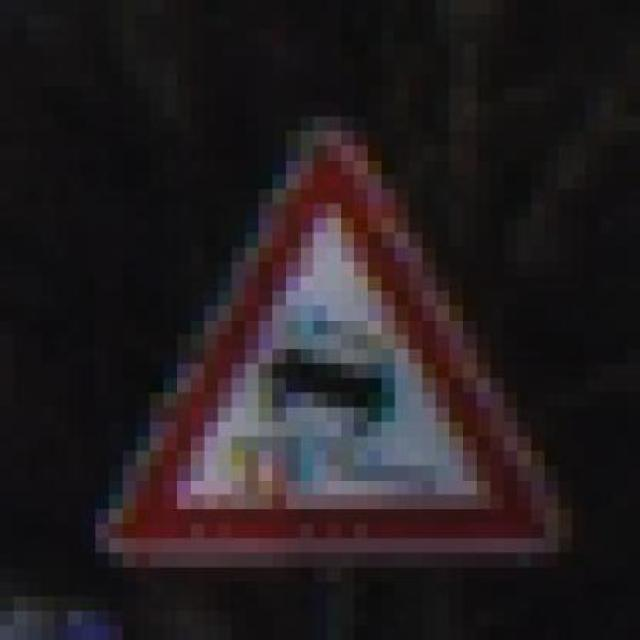Slippery Road Ahead: (68, 116, 572, 567)
